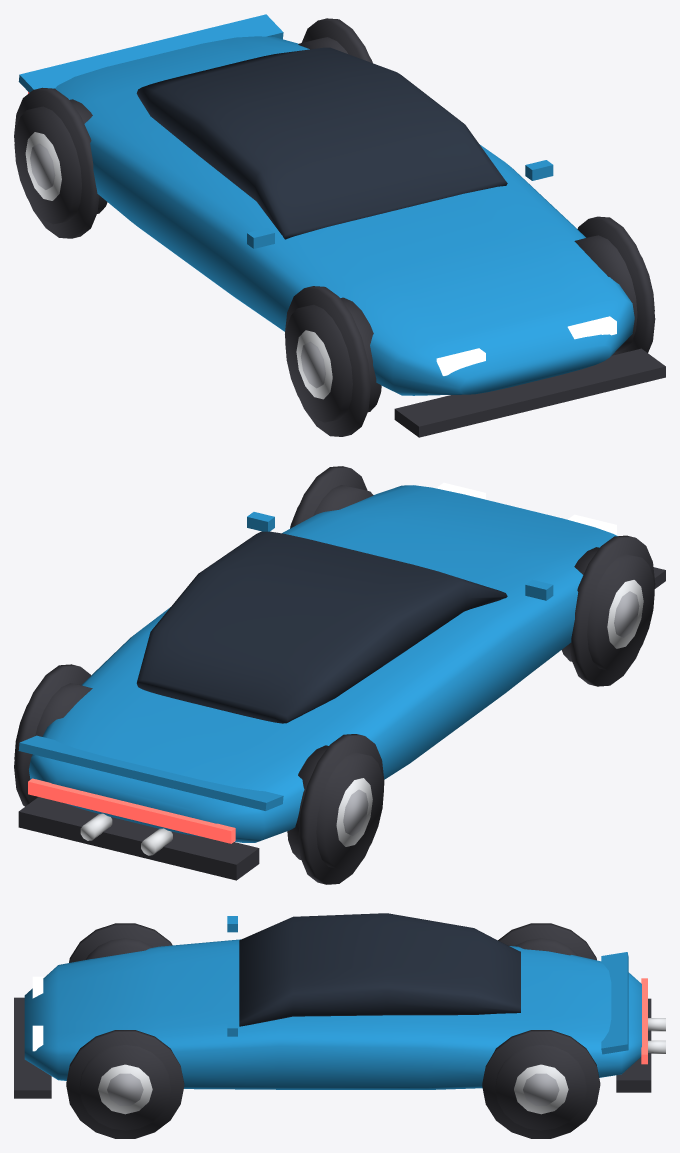
File: car-gtx.glb
3 views of the same model, one above another, from view 1: azimuth 30°, elevation 25°; view 2: azimuth 150°, elevation 25°; view 3: azimuth 270°, elevation 25° (orthographic). The views are drawn at different scales.
Visible parts, largest first — view 1: body, wheel-front-left, wheel-back-left, wheel-front-right; view 2: body, wheel-back-left, wheel-front-left, wheel-back-right, wheel-front-right; view 3: body, wheel-front-right, wheel-back-right, wheel-front-left, wheel-back-left.
Boxes of the visible parts, box(x1,y1,x2,y2) form: body: box(14, 14, 665, 437); wheel-front-left: box(285, 297, 381, 422); wheel-back-left: box(14, 99, 107, 224); wheel-front-right: box(574, 235, 654, 351); body: box(14, 466, 665, 884); wheel-back-left: box(287, 745, 383, 870); wheel-front-left: box(562, 547, 654, 671); wheel-back-right: box(14, 683, 92, 759); wheel-front-right: box(290, 485, 373, 528); body: box(14, 913, 665, 1138); wheel-front-right: box(79, 1045, 170, 1130); wheel-back-right: box(495, 1045, 586, 1130); wheel-front-left: box(86, 938, 153, 959); wheel-back-left: box(514, 938, 578, 956).
Bounding box in the file's own units: 2.08 × 1.13 × 4.86.
